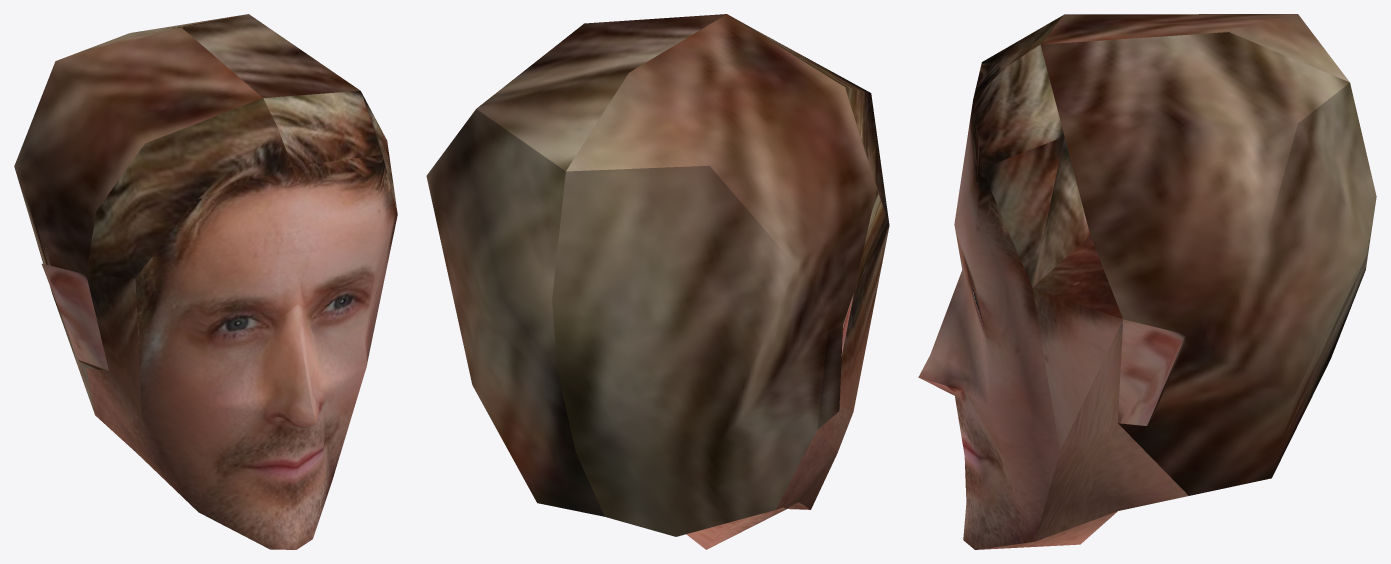
The model's file is rayan_gosling_low_poly_face.glb.
3 views of the same model, side by side, from view 1: azimuth 30°, elevation 25°; view 2: azimuth 150°, elevation 25°; view 3: azimuth 270°, elevation 25° (orthographic). The views are drawn at different scales.
Visible parts, largest first — view 1: MBlab_bd1616295127.001_1; view 2: MBlab_bd1616295127.001_1; view 3: MBlab_bd1616295127.001_1.
Part boxes in pixels (<box>): MBlab_bd1616295127.001_1: <box>14,14,397,549</box>; MBlab_bd1616295127.001_1: <box>426,14,889,549</box>; MBlab_bd1616295127.001_1: <box>918,14,1376,549</box>.
Bounding box in the file's own units: 0.2347 × 0.3119 × 0.2528.
Materials: 1 (1 with a texture image).
